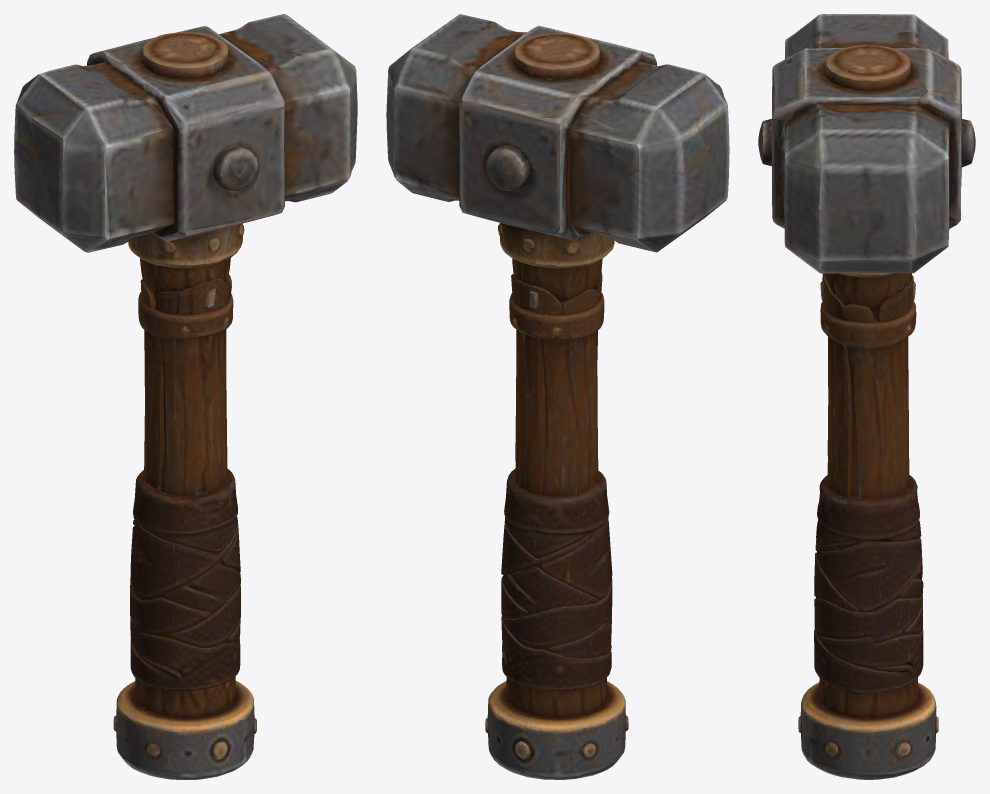
File: hammer.glb
3 views of the same model, side by side, from view 1: azimuth 30°, elevation 25°; view 2: azimuth 150°, elevation 25°; view 3: azimuth 270°, elevation 25° (orthographic).
Parts seen in each view (by area): view 1: output_unwrapped; view 2: output_unwrapped; view 3: output_unwrapped.
Part boxes in pixels (x1=…): output_unwrapped: x1=14, y1=14, x2=357, y2=779; output_unwrapped: x1=386, y1=14, x2=729, y2=779; output_unwrapped: x1=758, y1=14, x2=975, y2=779.
Size of the model in its own units: 0.8392 by 1.9 by 0.5395.
1 material, 1 textured.
